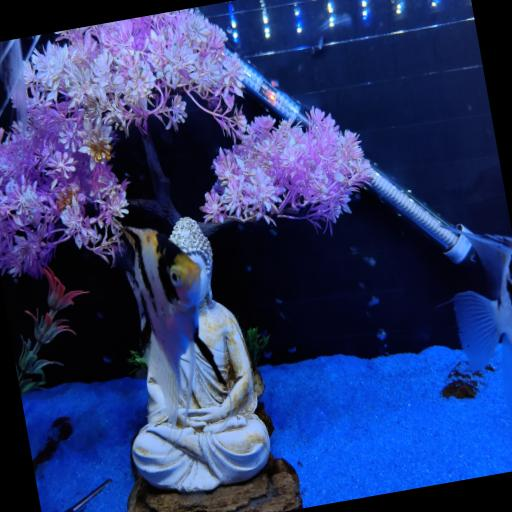Fish: (122, 228, 223, 425), (452, 232, 511, 418)
